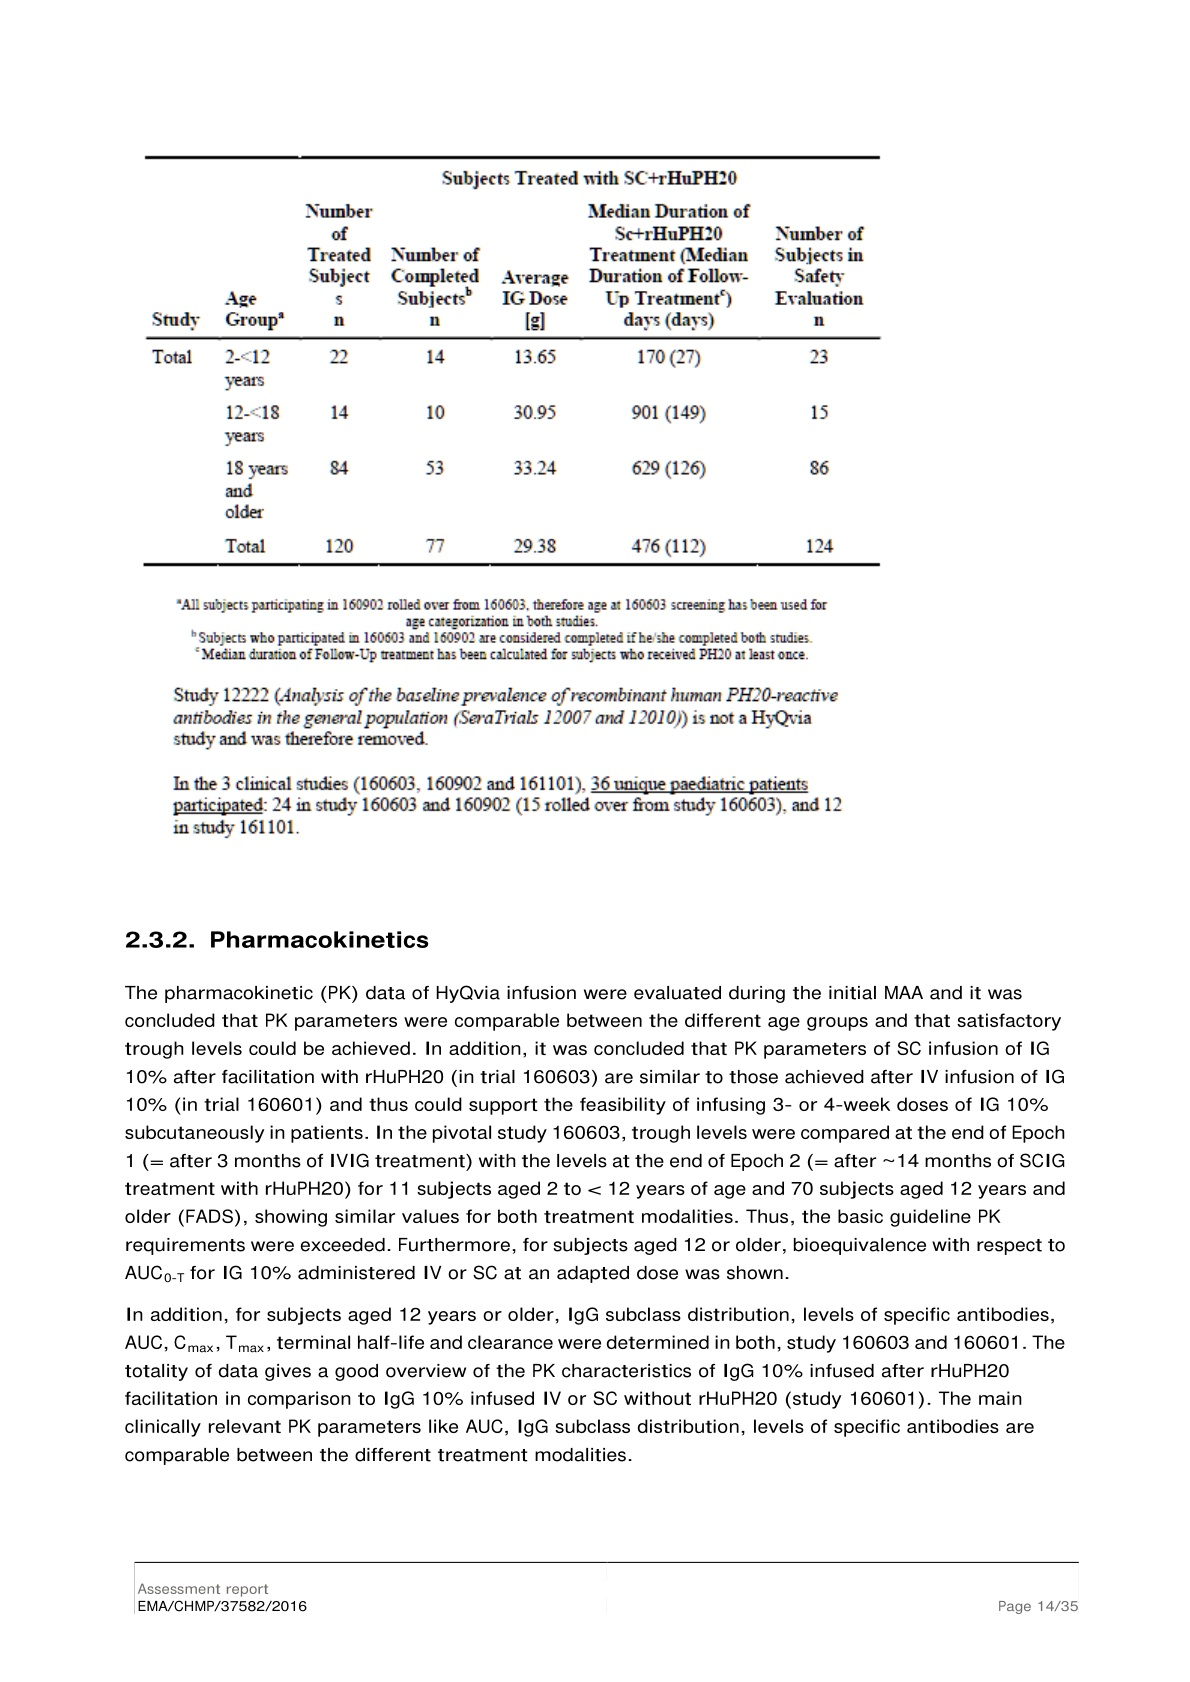partial_lined_merged_cells: (140, 152, 881, 571)
